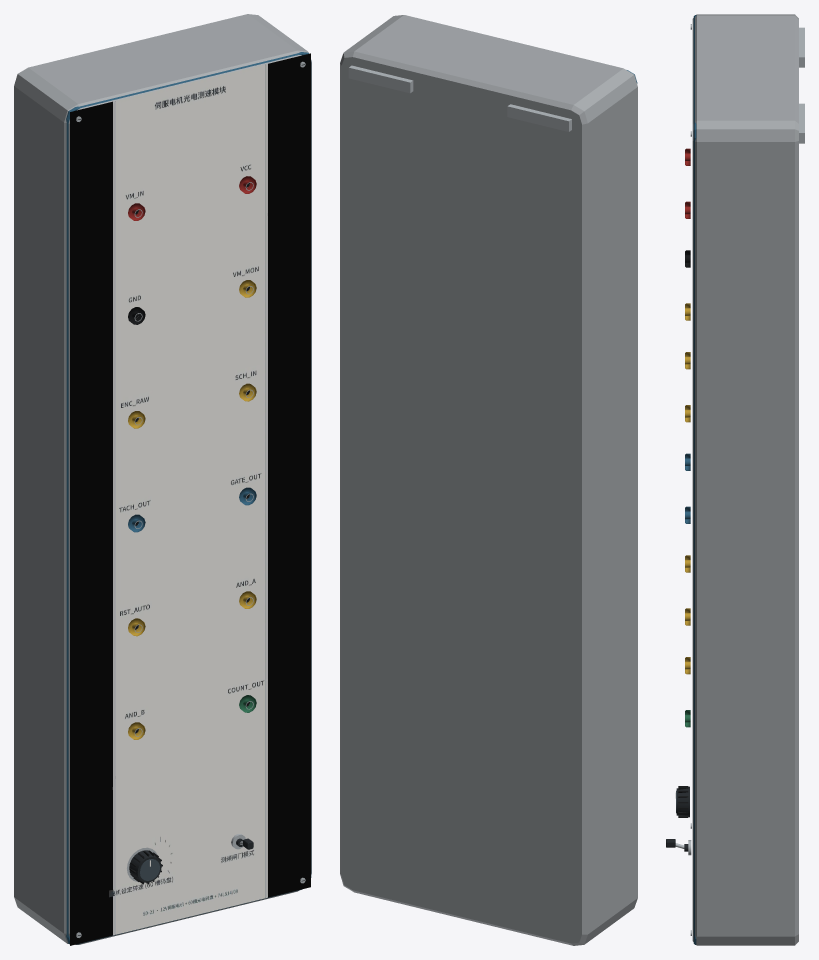
File: module.glb
3 views of the same model, side by side, from view 1: azimuth 30°, elevation 25°; view 2: azimuth 150°, elevation 25°; view 3: azimuth 270°, elevation 25° (orthographic). The views are drawn at different scales.
Parts seen in each view (by area): view 1: PANEL_silkscreen, STATIC_paint, MOVING_SPEED_SET_paint, STATIC_metal; view 2: STATIC_paint, STATIC_metal; view 3: STATIC_paint, STATIC_metal, MOVING_SPEED_SET_paint.
Boxes of the visible parts, x1,y1,x2,y2 form: PANEL_silkscreen: (70, 53, 310, 945); STATIC_paint: (14, 14, 311, 944); MOVING_SPEED_SET_paint: (129, 850, 162, 884); STATIC_metal: (76, 61, 305, 937); STATIC_paint: (340, 15, 637, 945); STATIC_metal: (348, 65, 571, 131); STATIC_paint: (685, 14, 798, 945); STATIC_metal: (688, 24, 804, 935); MOVING_SPEED_SET_paint: (675, 786, 689, 817).
Bounding box in the file's own units: 0.145 × 0.47 × 0.0718.
Materials: 5 (1 with a texture image).
